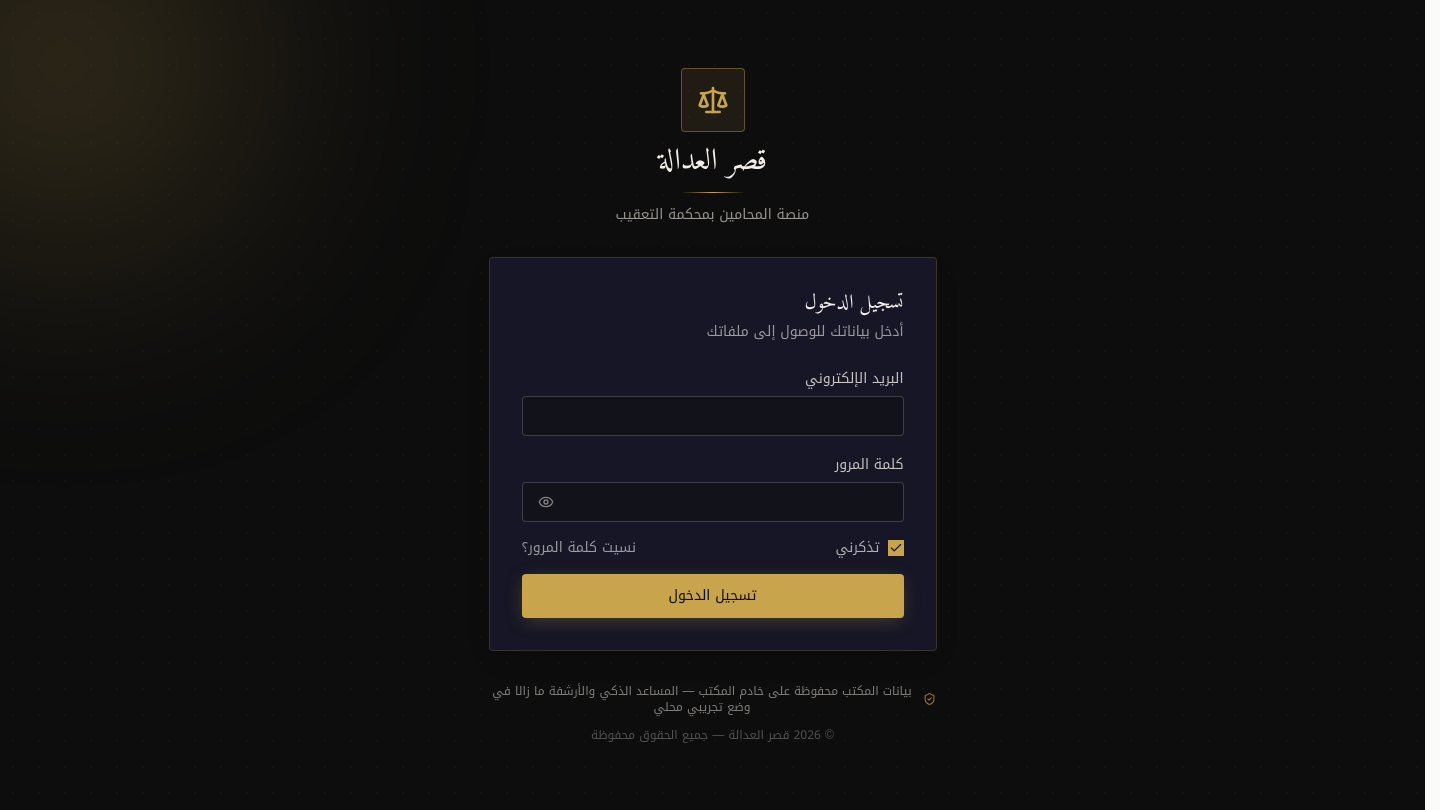
Test: Login page › shows validation errors before contacting the server
Type "invalid-email" into the field labelled "البريد الإلكتروني" at x=712, y=416, box 522,396 -> 904,436
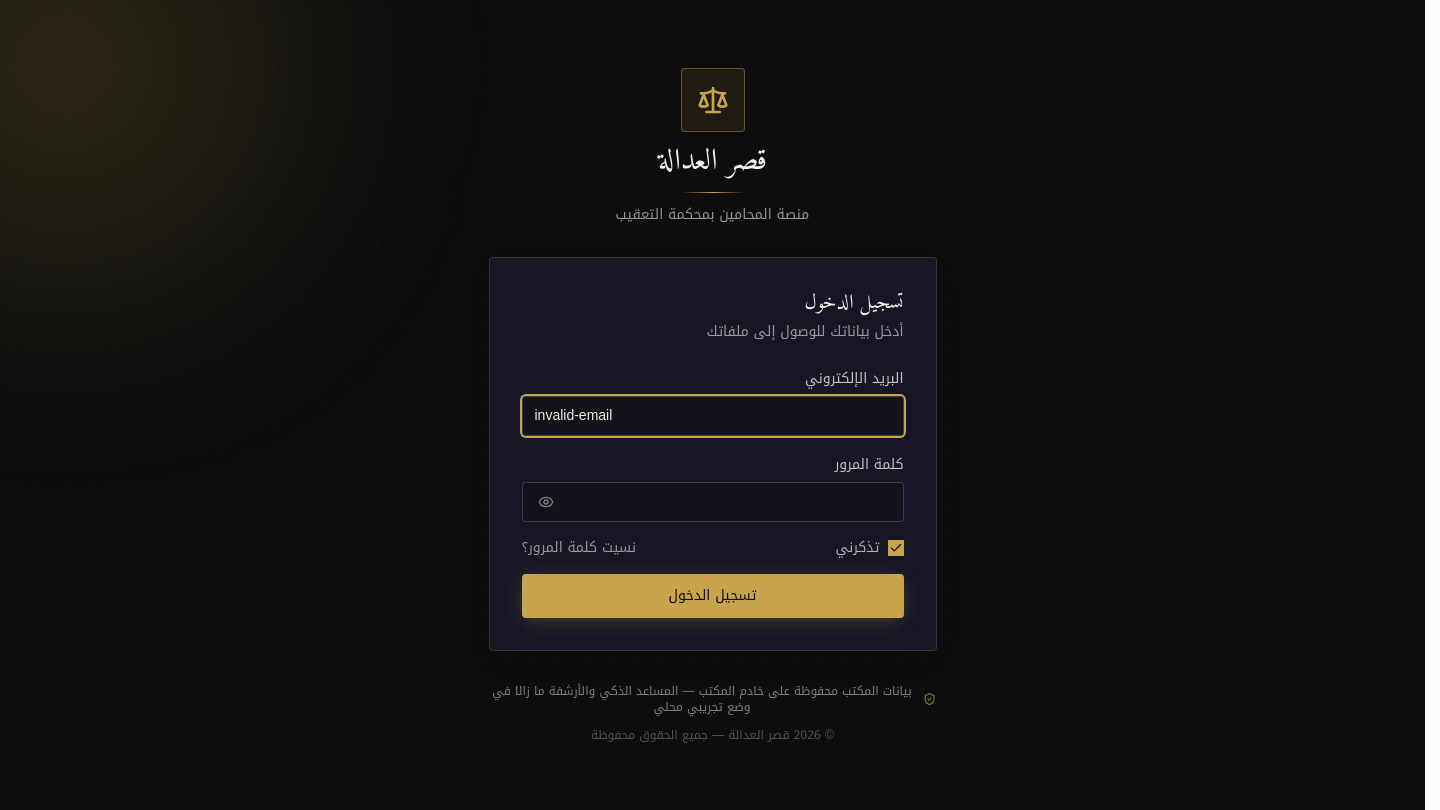
Click the button "تسجيل الدخول" at x=712, y=596, box 522,574 -> 904,618
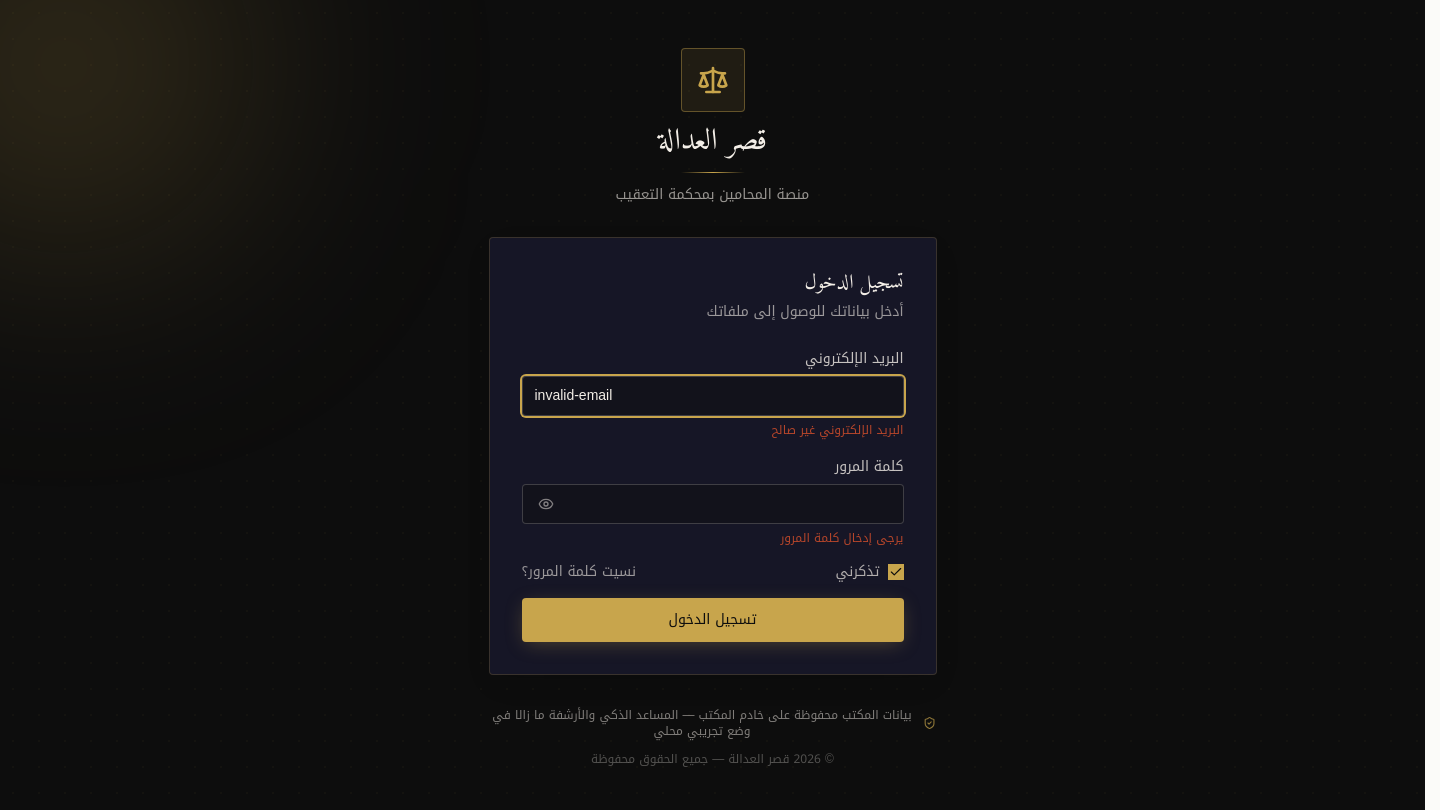
Expected: the text "البريد الإلكتروني غير صالح" is shown, 772,419 -> 904,441
Expected: the text "يرجى إدخال كلمة المرور" is shown, 780,527 -> 904,549
